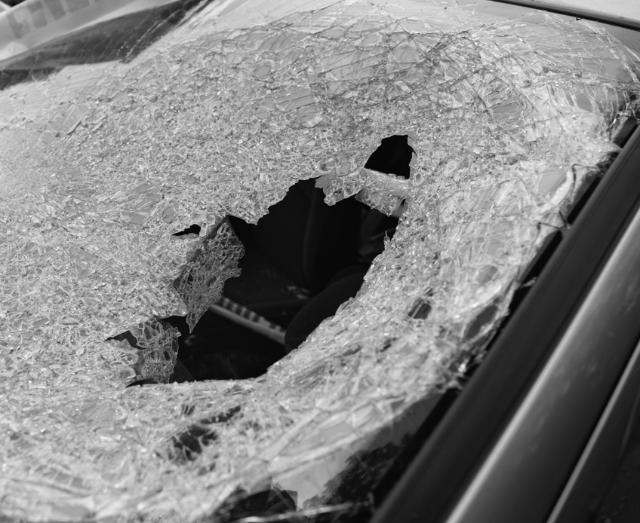Windshield: (7, 6, 636, 523)
